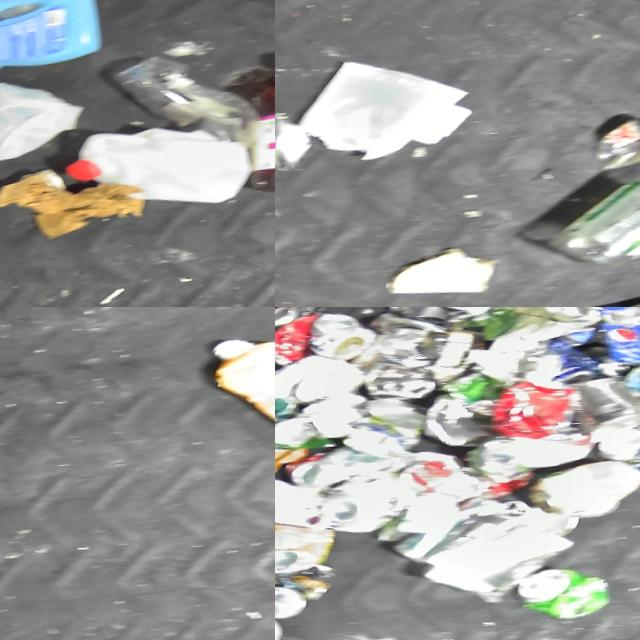can: (348, 321, 480, 407), (516, 567, 613, 627), (570, 376, 640, 438), (275, 563, 340, 623), (275, 517, 339, 577), (309, 311, 377, 364), (592, 424, 640, 487), (275, 313, 328, 370), (275, 107, 311, 178), (275, 307, 325, 330)
milk_jug: (64, 117, 264, 222), (0, 69, 84, 168)
non_white_jug: (0, 0, 110, 79)
